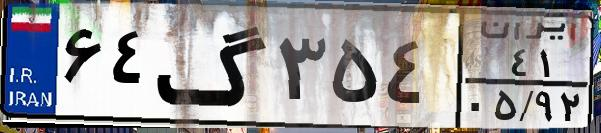0: (470, 70, 495, 125)
1: (537, 27, 568, 80)
2: (560, 70, 590, 125)
3: (270, 28, 330, 110)
4: (385, 28, 445, 110), (110, 28, 156, 98), (508, 27, 537, 80)
5: (330, 28, 385, 110), (495, 70, 520, 125)
6: (57, 26, 110, 100)
9: (535, 70, 560, 125)
گ: (156, 12, 270, 120)
